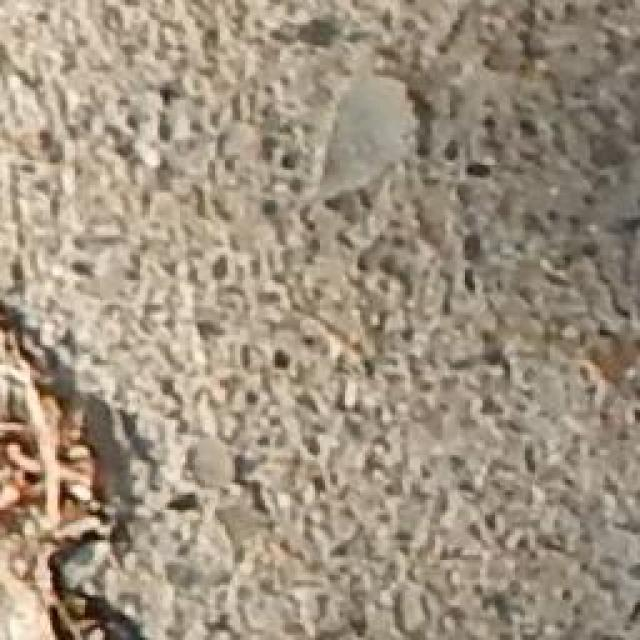concrete-crack: (0, 295, 166, 640)
